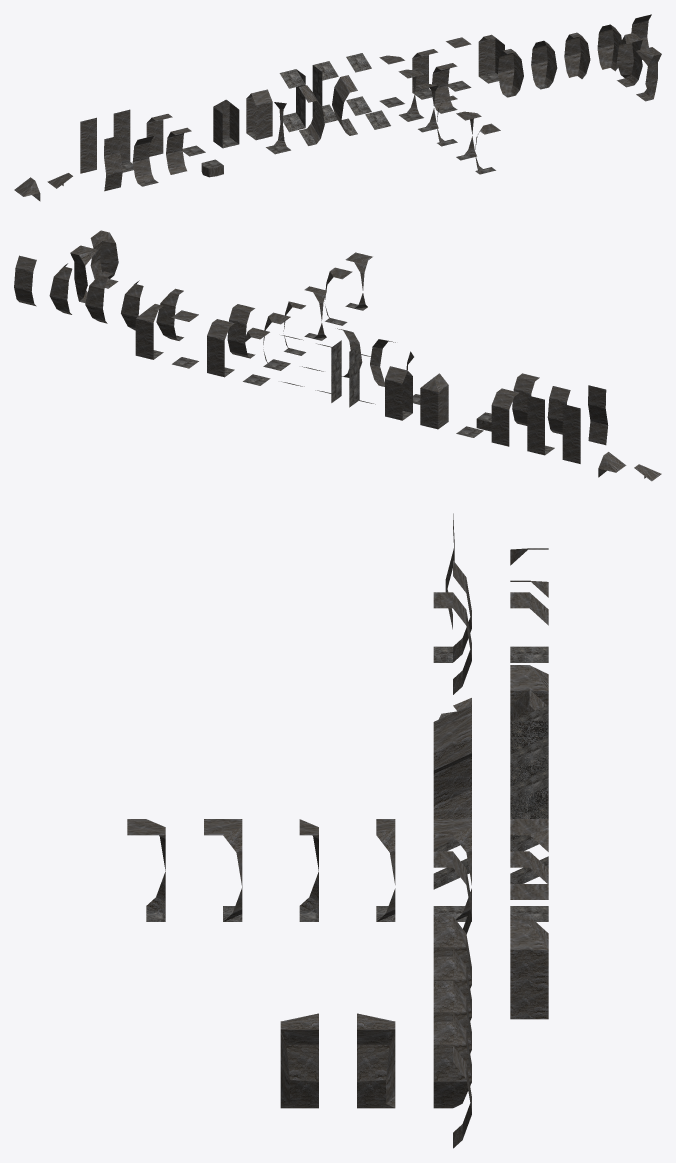
File: tileset.glb
3 views of the same model, one above another, from view 1: azimuth 30°, elevation 25°; view 2: azimuth 150°, elevation 25°; view 3: azimuth 270°, elevation 25° (orthographic). The views are drawn at different scales.
Visible parts, largest first — view 1: wall-double-col, corner-double-col, cave-protusion-right-col, cave-corner-no-ciel-col, cave-corner-col, corner-col, cave-corner-no-floor-col, ramp-right-col, cave-pit-col, just-floor-col, cave-corner-mid-col, ramp-left-col (+21 smaller); view 2: wall-double-col, corner-double-col, cave-protusion-right-col.001, wall-col, no-floor-col, open-floor-col, just-floor-col, cave-pit-col, corner-col, cave-wall-col, cave-wall-mid-col, cave-wall-no-floor-col (+15 smaller); view 3: corner-col, cave-protusion-right-col, cave-protusion-right-col.001, ramp-left-col, cave-ramp-left-col, cave-corner-mid-col, cave-ramp-right-col, cave-corner-inverse-col, cave-corner-col, cave-corner-no-floor-col, cave-corner-right-roof-col, ceiling-2-col (+9 smaller).
Part boxes in pixels (x1,y1,x2,y2): wall-double-col: (246,89,272,140); corner-double-col: (213,99,239,148); cave-protusion-right-col: (616,33,642,87); cave-corner-no-ciel-col: (531,40,557,89); cave-corner-col: (498,49,523,97); corner-col: (478,34,504,83); cave-corner-no-floor-col: (564,32,590,78); ramp-right-col: (279,69,305,132); cave-pit-col: (104,135,122,191); just-floor-col: (80,117,96,173); cave-corner-mid-col: (597,24,621,71); ramp-left-col: (312,61,338,123); wall-double-col: (385,366,412,420); corner-double-col: (420,373,448,429); cave-protusion-right-col.001: (90,230,118,288); wall-col: (207,319,234,377); no-floor-col: (491,388,519,446); open-floor-col: (527,395,554,455); just-floor-col: (562,404,580,463); cave-pit-col: (588,385,608,445); corner-col: (135,304,163,359); cave-wall-col: (227,304,255,358); cave-wall-mid-col: (14,255,36,306); cave-wall-no-floor-col: (512,373,539,425); corner-col: (510,916,548,1019); cave-protusion-right-col: (357,1013,395,1108); cave-protusion-right-col.001: (280,1013,318,1108); ramp-left-col: (510,737,548,851); cave-ramp-left-col: (433,745,471,851); cave-corner-mid-col: (433,1014,471,1108); cave-ramp-right-col: (433,704,471,761); cave-corner-inverse-col: (433,819,471,921); cave-corner-col: (433,916,471,988); cave-corner-no-floor-col: (433,981,471,1053); cave-corner-right-roof-col: (204,819,242,921); ceiling-2-col: (510,819,548,921).
Bounding box in the file's own units: 37 × 3.5 × 11.
Materials: 1 (1 with a texture image).
